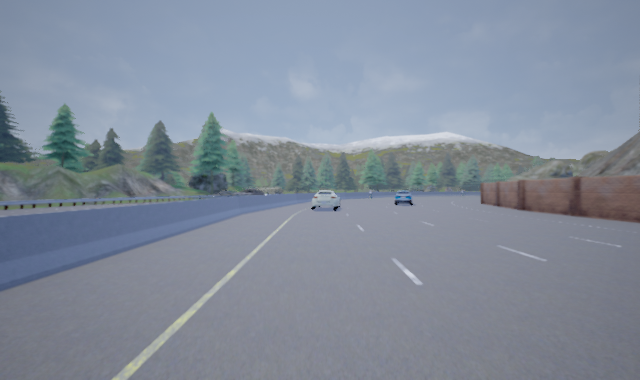vehicle: (310, 189, 341, 210), (393, 190, 414, 206)
